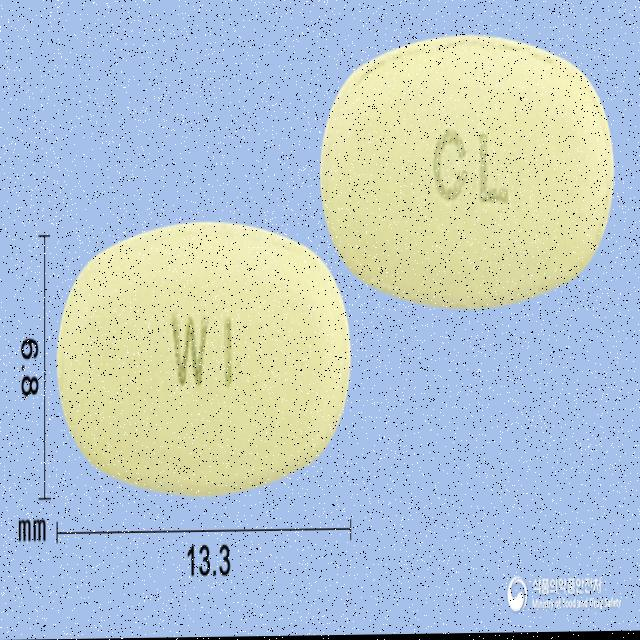Clathron: (54, 216, 353, 505), (319, 35, 615, 312)
